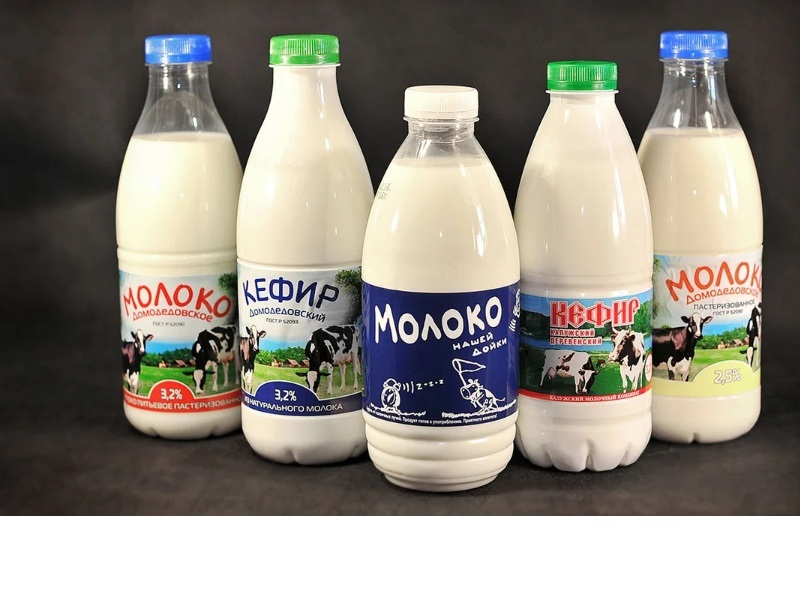milk: (219, 29, 388, 478), (500, 59, 664, 490), (361, 83, 526, 495), (106, 22, 262, 455), (638, 29, 779, 450)
